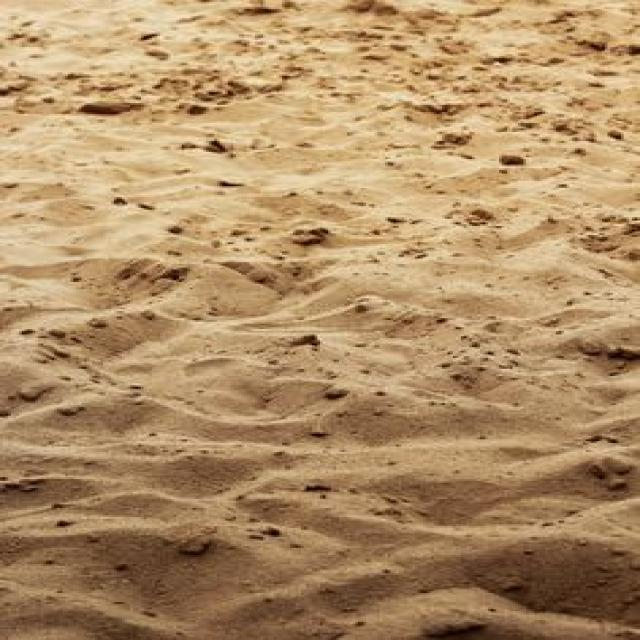white-sand: (0, 0, 639, 639)
